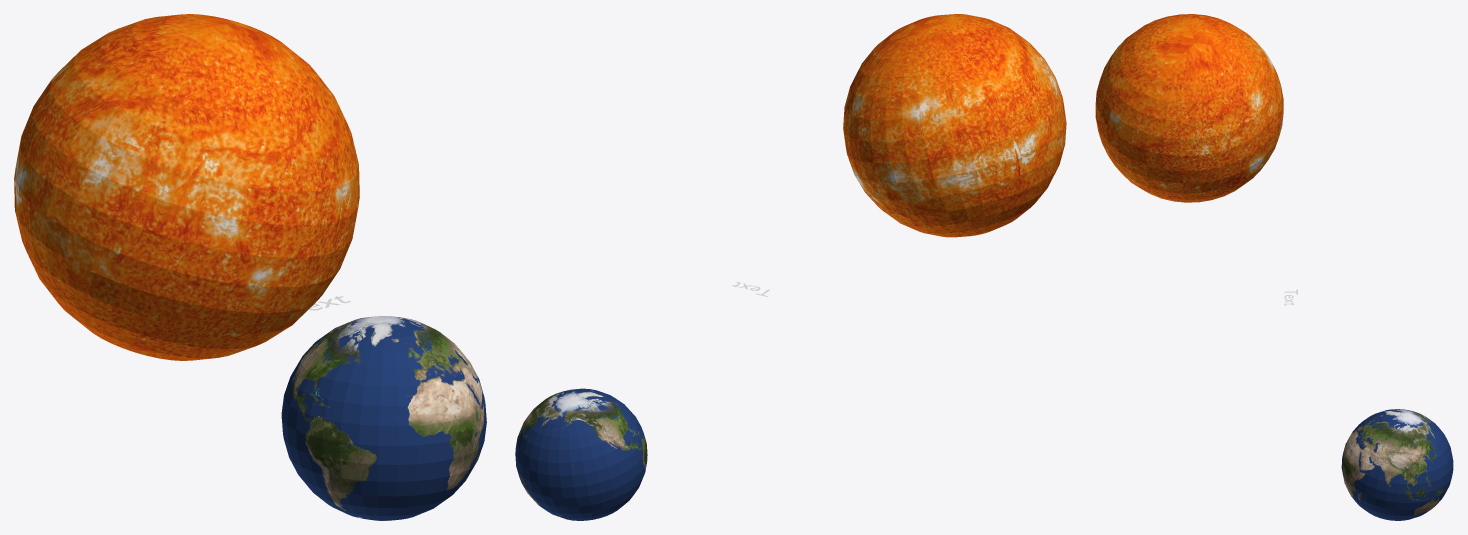
File: green house.gltf
3 views of the same model, side by side, from view 1: azimuth 30°, elevation 25°; view 2: azimuth 150°, elevation 25°; view 3: azimuth 270°, elevation 25° (orthographic). The views are drawn at different scales.
Parts seen in each view (by area): view 1: Sphere.001, Sphere; view 2: Sphere.001, Sphere; view 3: Sphere.001, Sphere.
Part boxes in pixels (x1,y1,x2,y2): Sphere.001: [14, 14, 359, 360]; Sphere: [281, 316, 486, 520]; Sphere.001: [843, 14, 1066, 237]; Sphere: [515, 388, 647, 520]; Sphere.001: [1095, 14, 1283, 202]; Sphere: [1341, 409, 1453, 520].
Size of the model in its own units: 19.88 by 21.71 by 18.08.
Materials: 2 (2 with a texture image).
